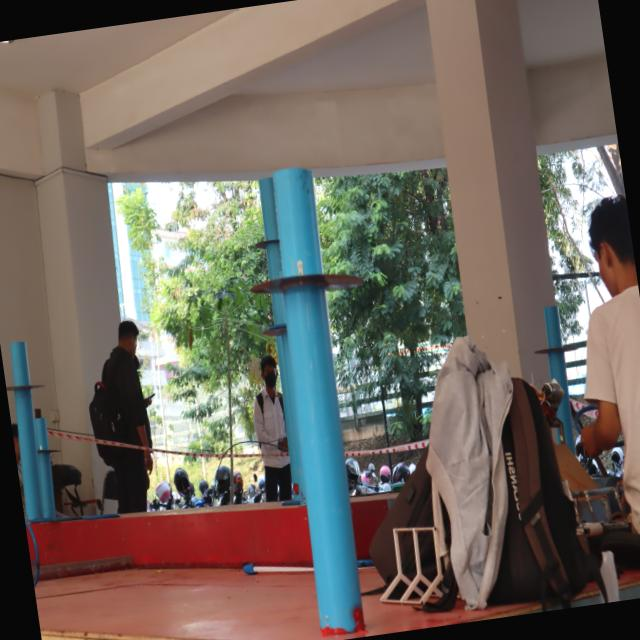pole: (234, 160, 370, 346), (0, 325, 54, 415)
